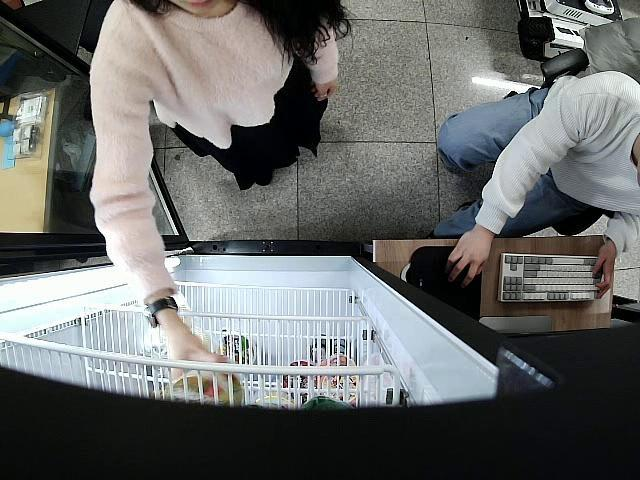04_chapagetti_S: (166, 368, 244, 410)
